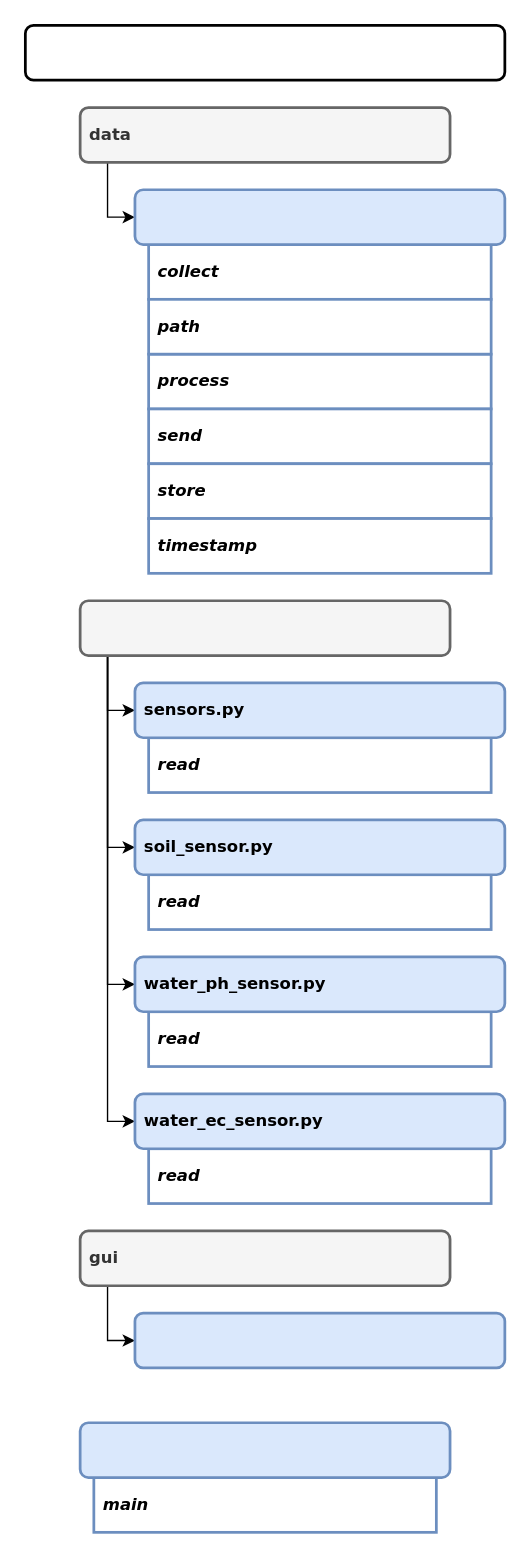
This 529x1556 diagram has some shape labels left out. The shapes that lost their labels are listed below. From the top down, each one's centre as x and y in pixels, then its label:
At (x=264, y=52): "firmware".
At (x=319, y=216): "data.py".
At (x=264, y=627): "device".
At (x=319, y=1340): "ui.py".
At (x=264, y=1449): "growhub_firmware.py".
